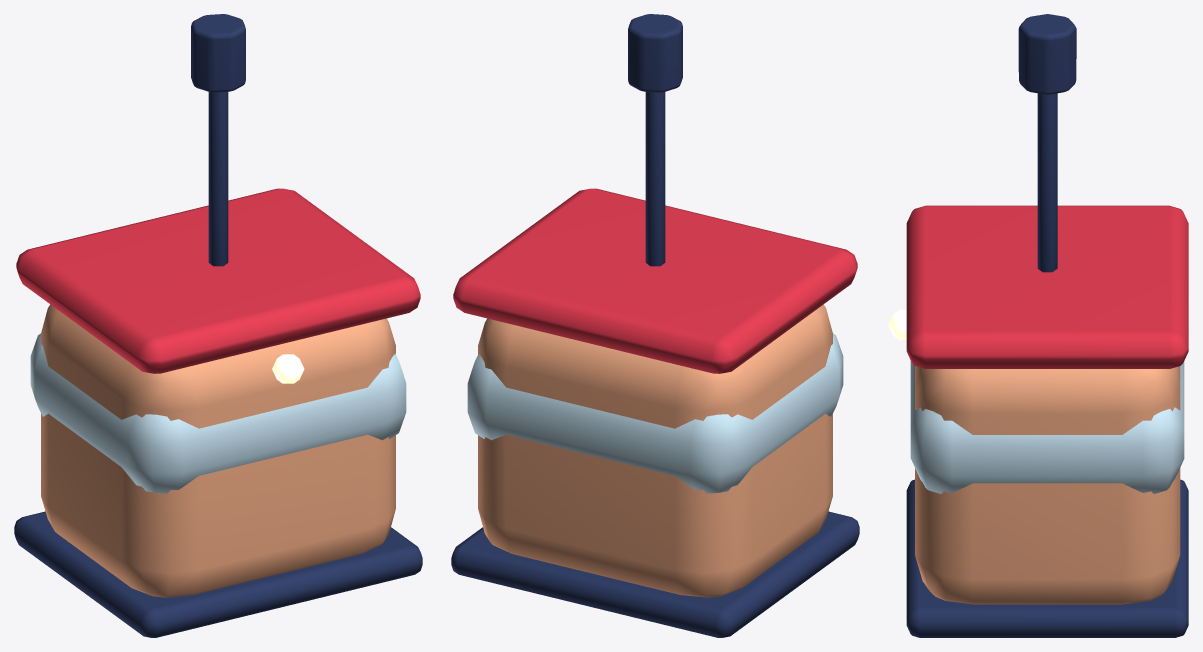
File: sky_ride_cabin.glb
The picture shows the model from 3 angles, left to right: view 1: azimuth 30°, elevation 25°; view 2: azimuth 150°, elevation 25°; view 3: azimuth 270°, elevation 25°; orthographic projection. The views are drawn at different scales.
Visible parts, largest first — view 1: RideCabin; view 2: RideCabin; view 3: RideCabin.
Boxes of the visible parts, x1,y1,x2,y2 form: RideCabin: [14, 14, 422, 637]; RideCabin: [451, 14, 859, 637]; RideCabin: [888, 14, 1188, 637].
Bounding box in the file's own units: 2 × 3.65 × 1.81.
